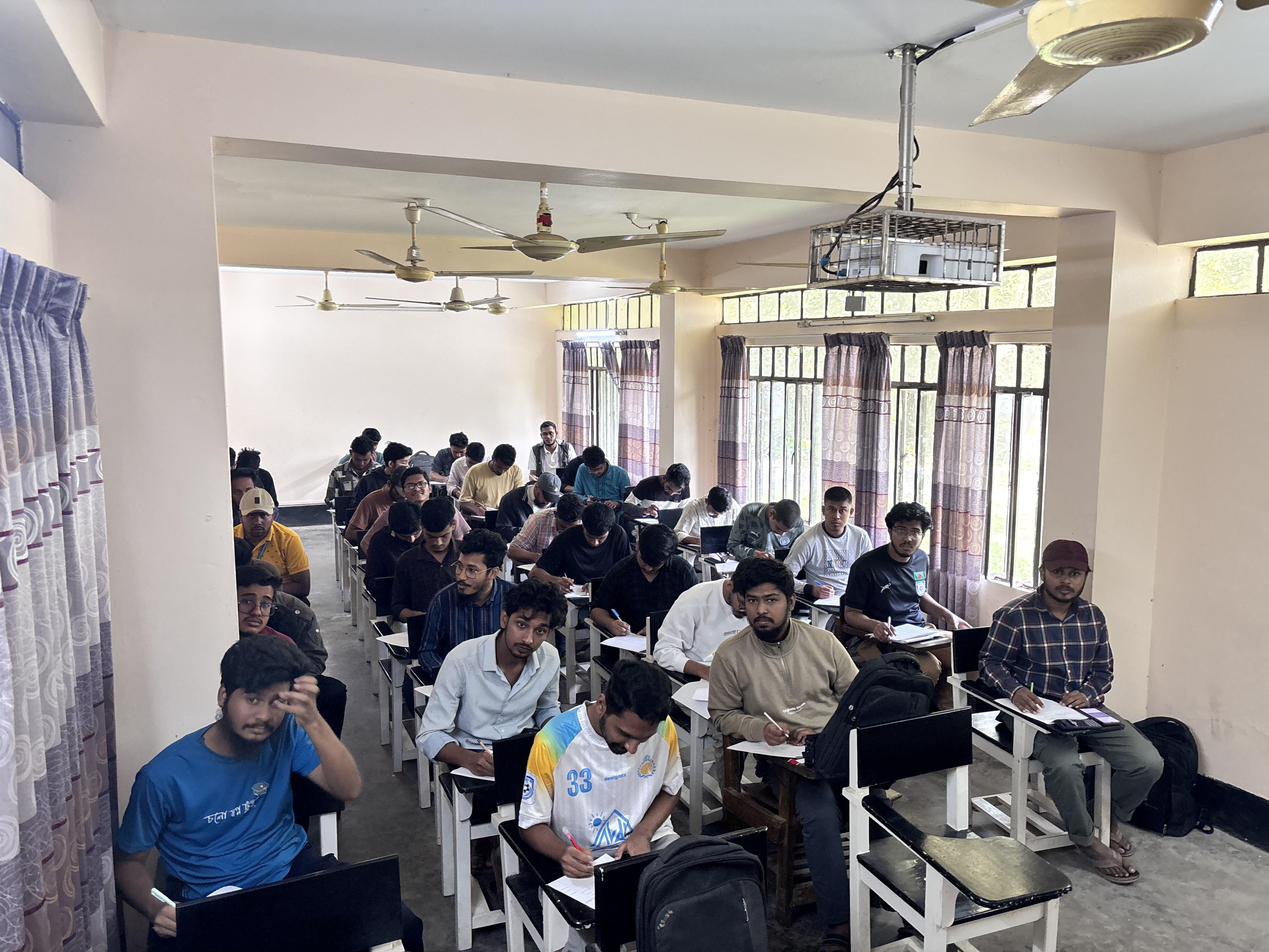no_cheating: (143, 626, 362, 900), (533, 658, 691, 892), (710, 556, 864, 776), (430, 579, 590, 785), (847, 491, 965, 672), (596, 526, 686, 626), (544, 499, 633, 598), (812, 483, 873, 603), (233, 560, 313, 644), (733, 490, 814, 570), (400, 490, 471, 575), (467, 438, 537, 521), (233, 486, 296, 560), (683, 482, 752, 546), (634, 461, 699, 516), (326, 431, 381, 494), (570, 441, 629, 499), (522, 412, 570, 482), (436, 427, 469, 480)
side_talking: (433, 530, 515, 626), (371, 434, 426, 472)
using_phone: (990, 538, 1124, 727)
